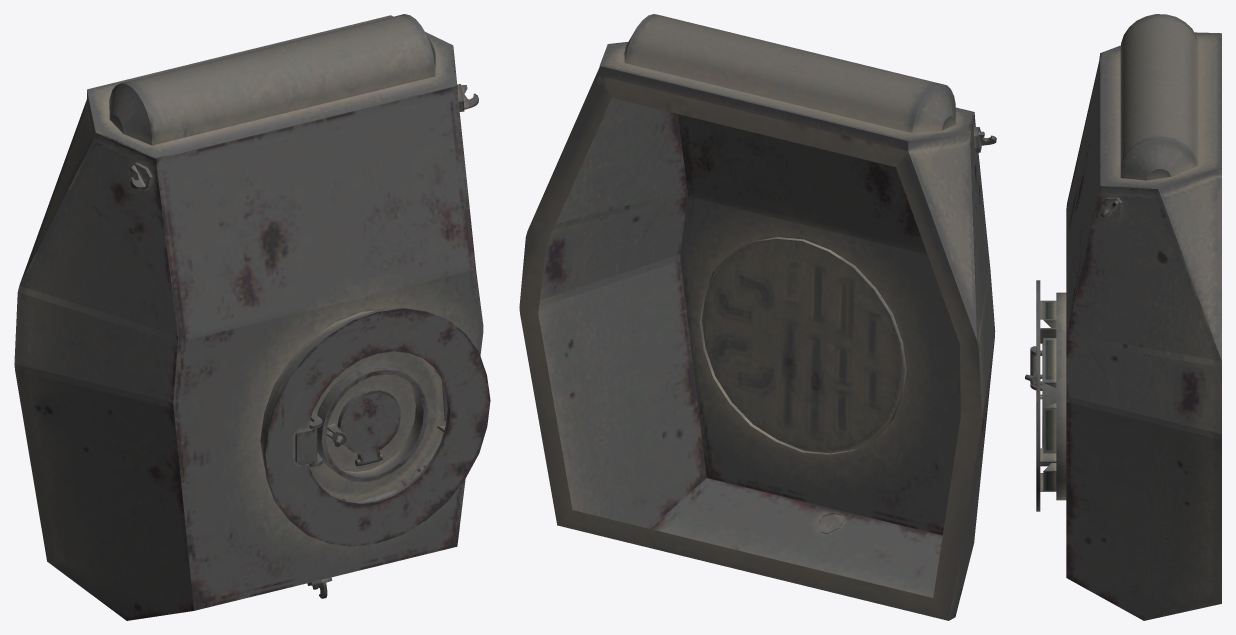
File: Turret_02.glb
3 renders of one model, left to right at view 1: azimuth 30°, elevation 25°; view 2: azimuth 150°, elevation 25°; view 3: azimuth 270°, elevation 25°, orthographic. The views are drawn at different scales.
Visible parts, largest first — view 1: set_0_group_0; view 2: set_0_group_0; view 3: set_0_group_0.
Boxes of the visible parts, x1,y1,x2,y2 form: set_0_group_0: (14,14,490,620); set_0_group_0: (519,14,996,620); set_0_group_0: (1025,14,1221,620).
Bounding box in the file's own units: 1.45 × 1.6 × 0.6021.
Materials: 1 (1 with a texture image).
